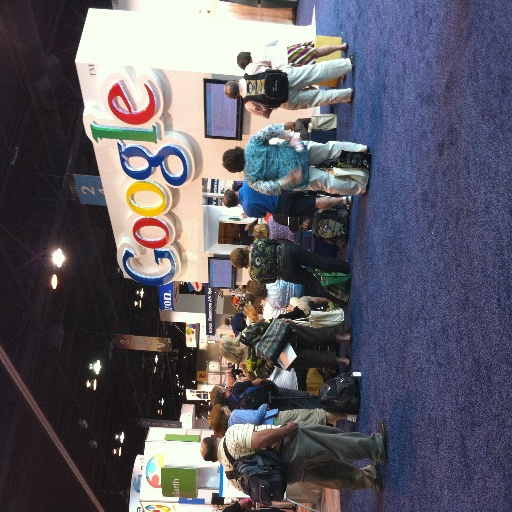hand: (287, 418, 300, 436), (291, 170, 303, 184), (290, 136, 300, 147), (263, 403, 273, 411), (286, 303, 294, 313), (283, 317, 292, 324)
